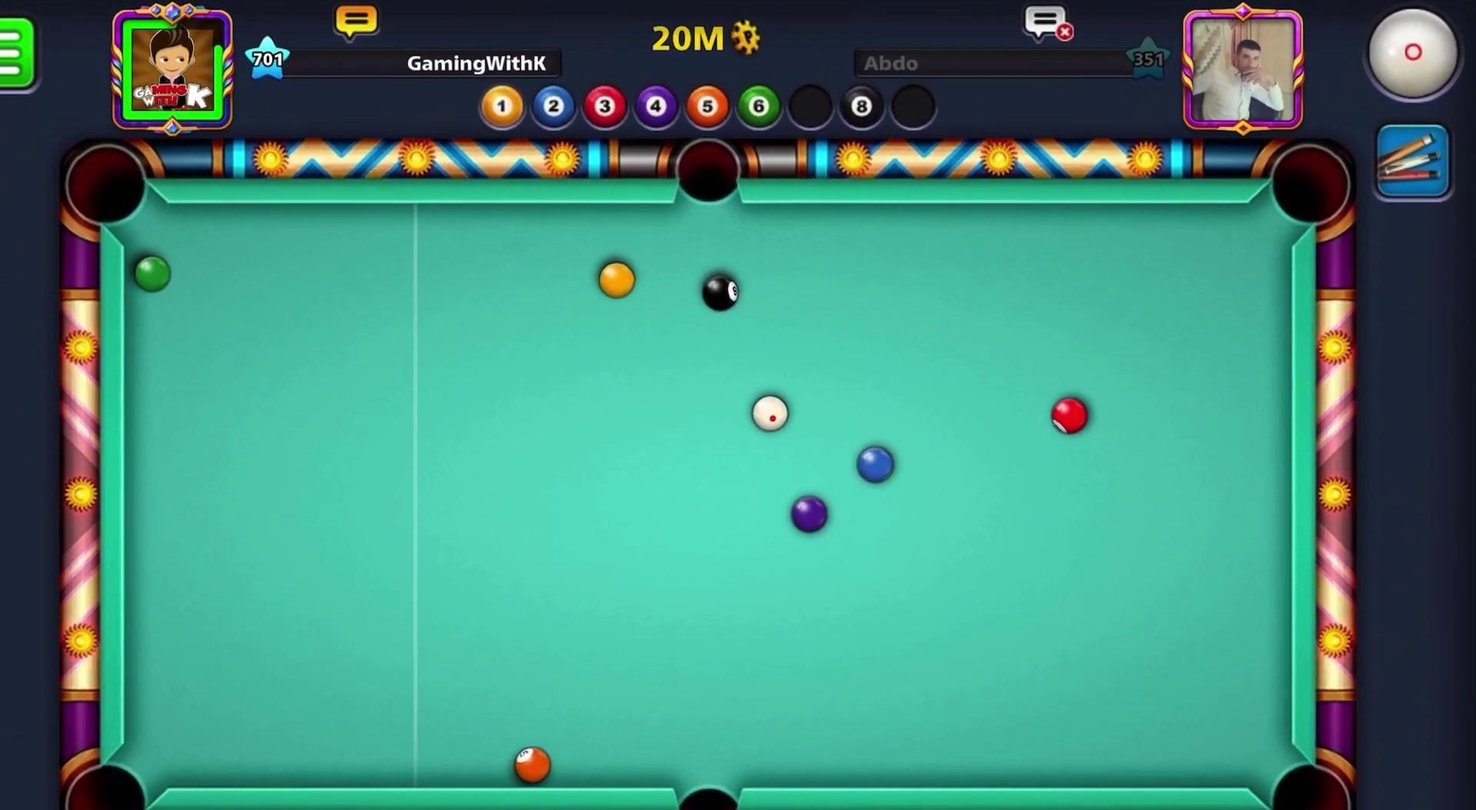Ball: (126, 244, 179, 296), (1047, 390, 1095, 443), (502, 743, 560, 786), (697, 269, 747, 316), (591, 255, 638, 305), (785, 493, 834, 540), (856, 443, 896, 484)
Hole: (52, 131, 171, 245), (1261, 135, 1360, 237), (658, 127, 758, 219), (54, 743, 165, 809), (1255, 743, 1360, 809), (658, 769, 755, 809)
Play_Area: (128, 199, 1291, 789)
Spin: (1338, 0, 1475, 119)
White: (745, 387, 795, 433)
